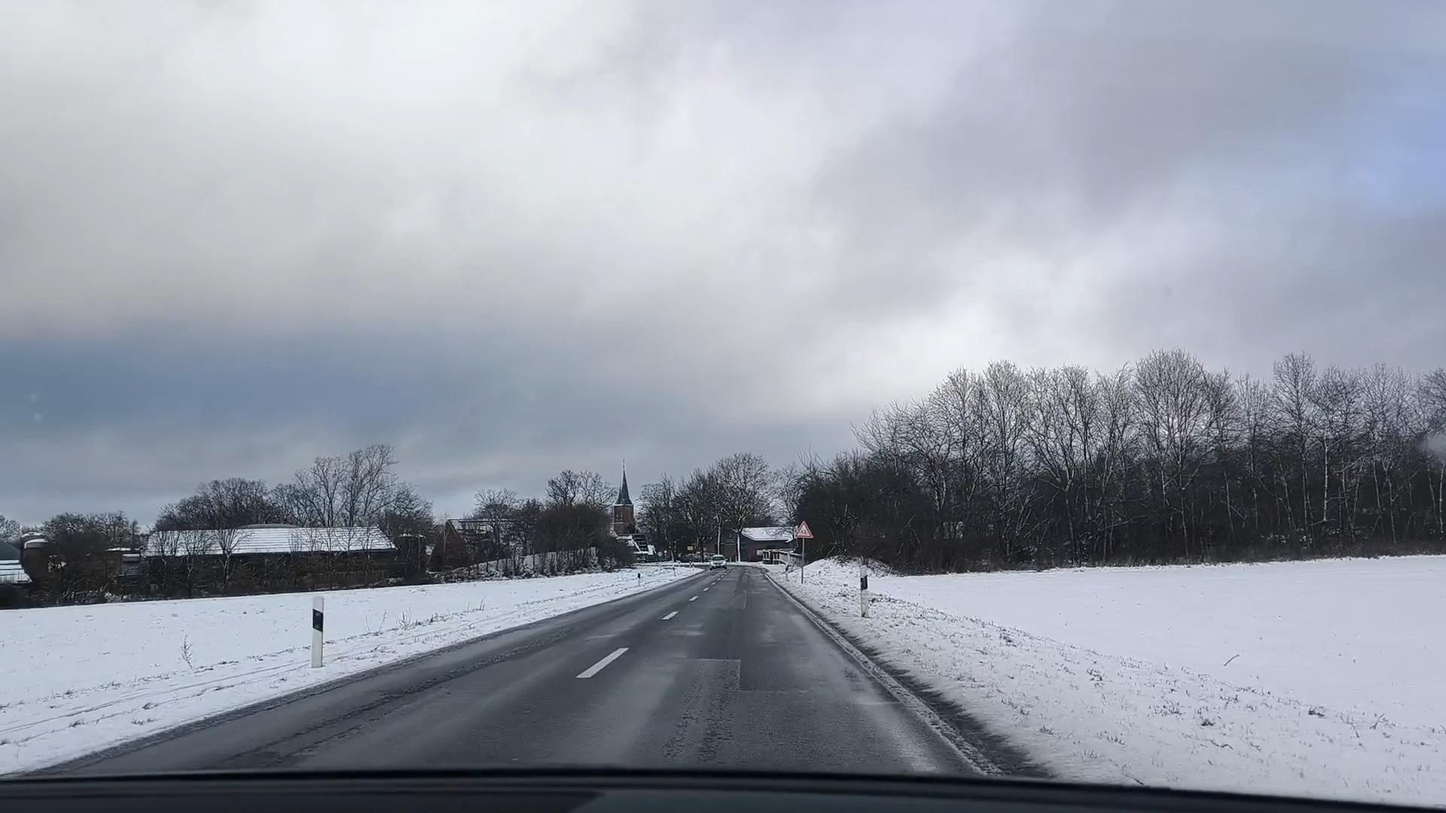Snow: (764, 553, 1446, 802), (0, 566, 706, 775)
wet: (26, 563, 1016, 778)
